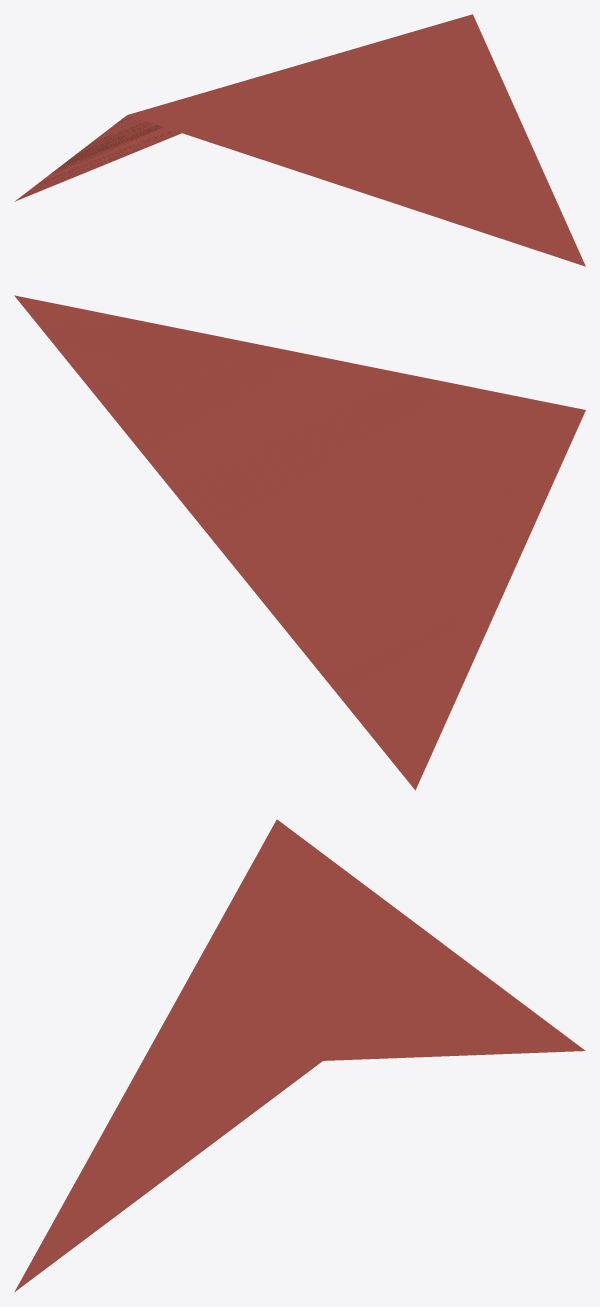
The model's file is harbor-pitched-roof.lod1.glb.
The picture shows the model from 3 angles, top to bottom: view 1: azimuth 30°, elevation 25°; view 2: azimuth 150°, elevation 25°; view 3: azimuth 270°, elevation 25°; orthographic projection. The views are drawn at different scales.
Parts seen in each view (by area): view 1: harbor-pitched-roof__roof; view 2: harbor-pitched-roof__roof; view 3: harbor-pitched-roof__roof.
Boxes of the visible parts, bbox=[...] form: harbor-pitched-roof__roof: bbox=[15, 14, 585, 266]; harbor-pitched-roof__roof: bbox=[14, 295, 585, 790]; harbor-pitched-roof__roof: bbox=[14, 819, 585, 1292].
Size of the model in its own units: 2 by 0.8944 by 2.
